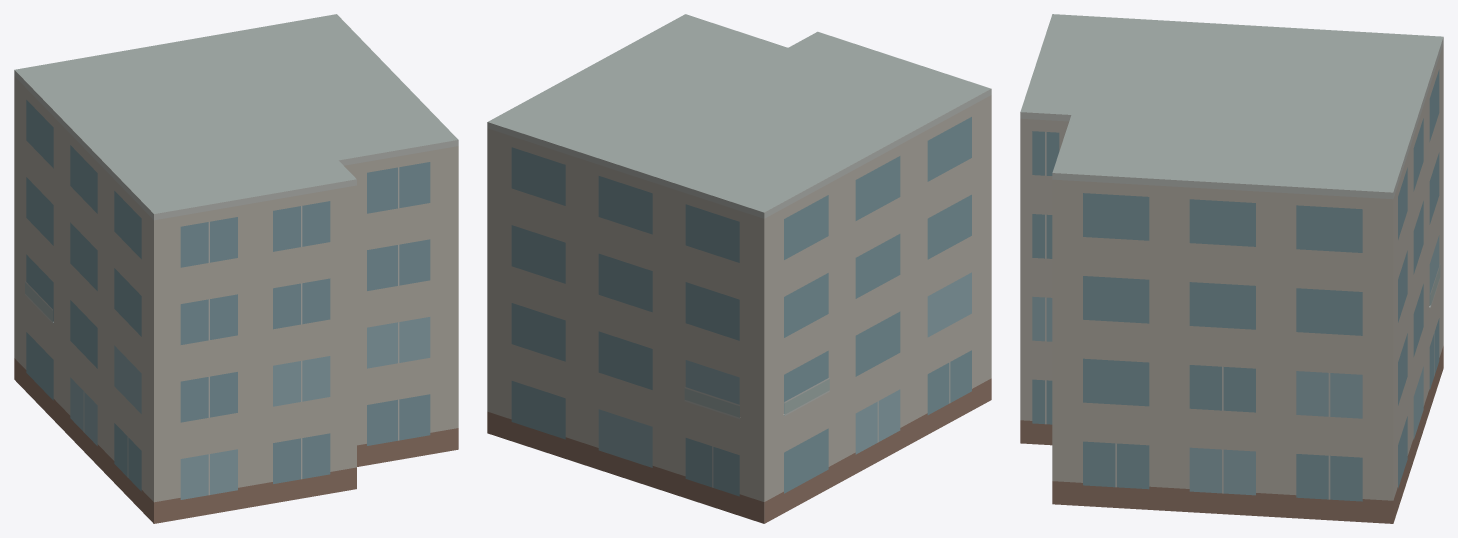
File: residential-54ed189e-277a-42ef-bae7-c7c6a1570222.glb
3 views of the same model, side by side, from view 1: azimuth 30°, elevation 25°; view 2: azimuth 150°, elevation 25°; view 3: azimuth 270°, elevation 25° (orthographic). The views are drawn at different scales.
Visible parts, largest first — view 1: residential-54ed189e-277a-42ef-bae7-c7c6a1570222.tmp; view 2: residential-54ed189e-277a-42ef-bae7-c7c6a1570222.tmp; view 3: residential-54ed189e-277a-42ef-bae7-c7c6a1570222.tmp.
Part boxes in pixels (x1,y1,x2,y2): residential-54ed189e-277a-42ef-bae7-c7c6a1570222.tmp: (14, 14, 458, 523); residential-54ed189e-277a-42ef-bae7-c7c6a1570222.tmp: (487, 14, 991, 523); residential-54ed189e-277a-42ef-bae7-c7c6a1570222.tmp: (1020, 14, 1443, 523).
Bounding box in the file's own units: 14.12 × 12.2 × 14.14.
